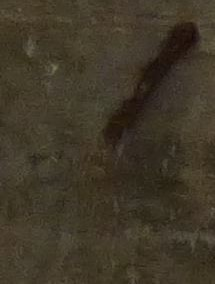Exposed reinforcement: (104, 20, 200, 140)
